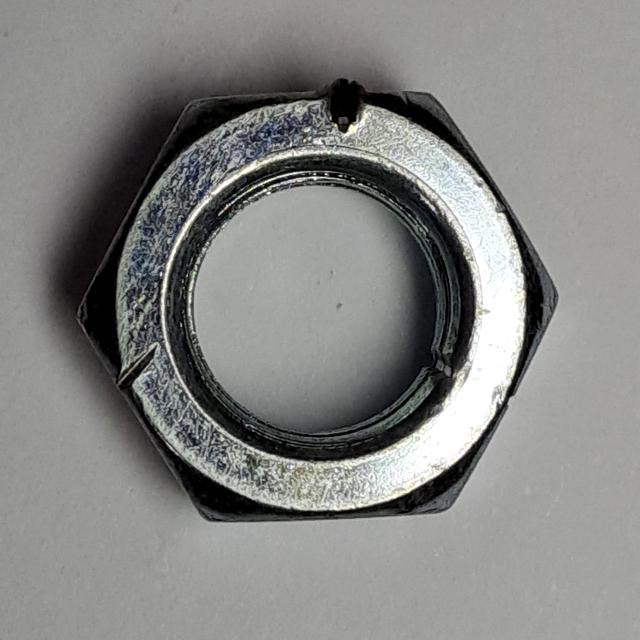Scratches: (68, 70, 569, 544)
